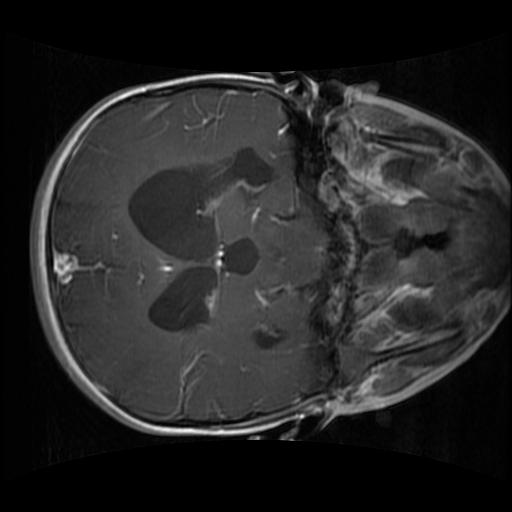glioma: (124, 145, 280, 260)
